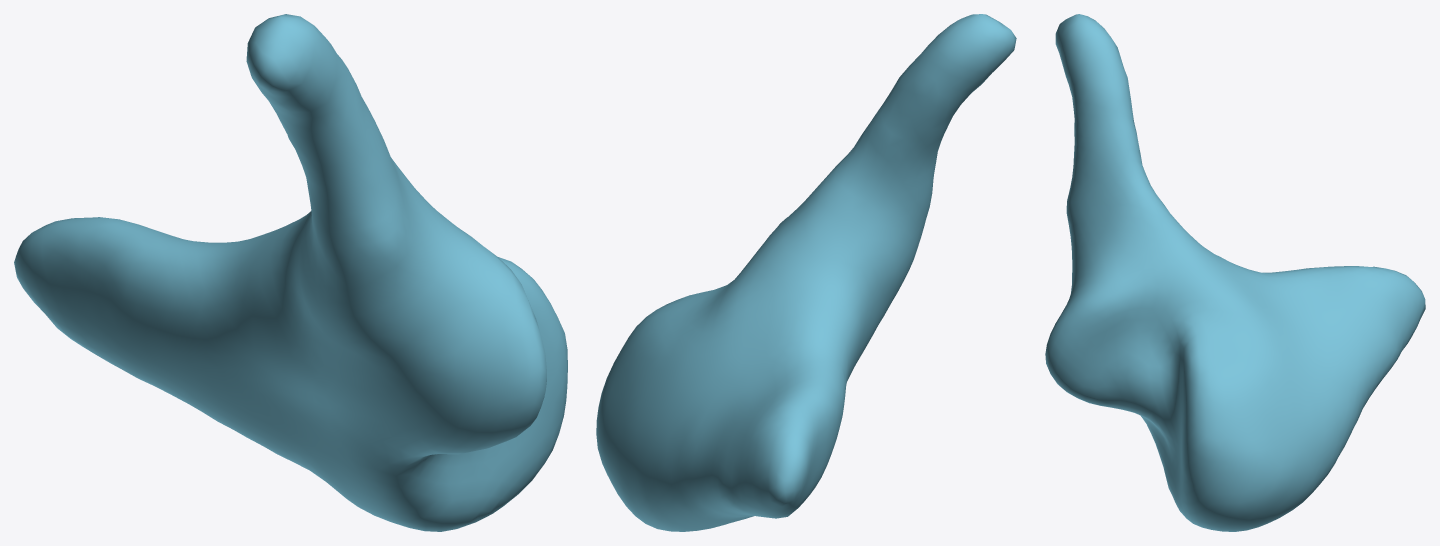
Rendered from incus.glb.
3 renders of one model, left to right at view 1: azimuth 30°, elevation 25°; view 2: azimuth 150°, elevation 25°; view 3: azimuth 270°, elevation 25°, orthographic. The views are drawn at different scales.
Parts seen in each view (by area): view 1: 04_Incus.ply; view 2: 04_Incus.ply; view 3: 04_Incus.ply.
Boxes of the visible parts, x1=… form: 04_Incus.ply: x1=14, y1=14, x2=567, y2=531; 04_Incus.ply: x1=596, y1=14, x2=1016, y2=531; 04_Incus.ply: x1=1045, y1=14, x2=1425, y2=531.
Bounding box in the file's own units: 3.97 × 5.84 × 4.77.
